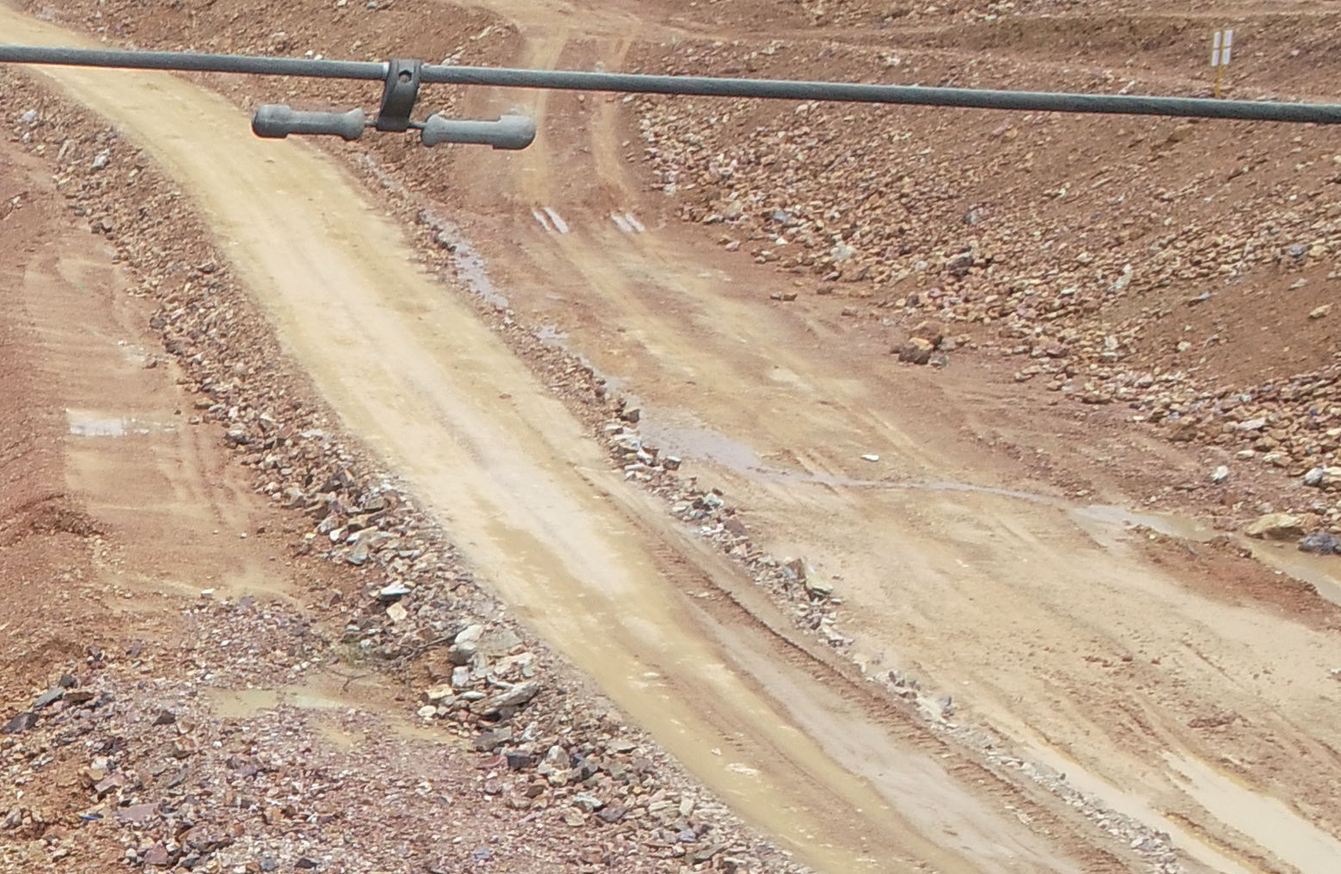damper: (248, 54, 540, 155)
